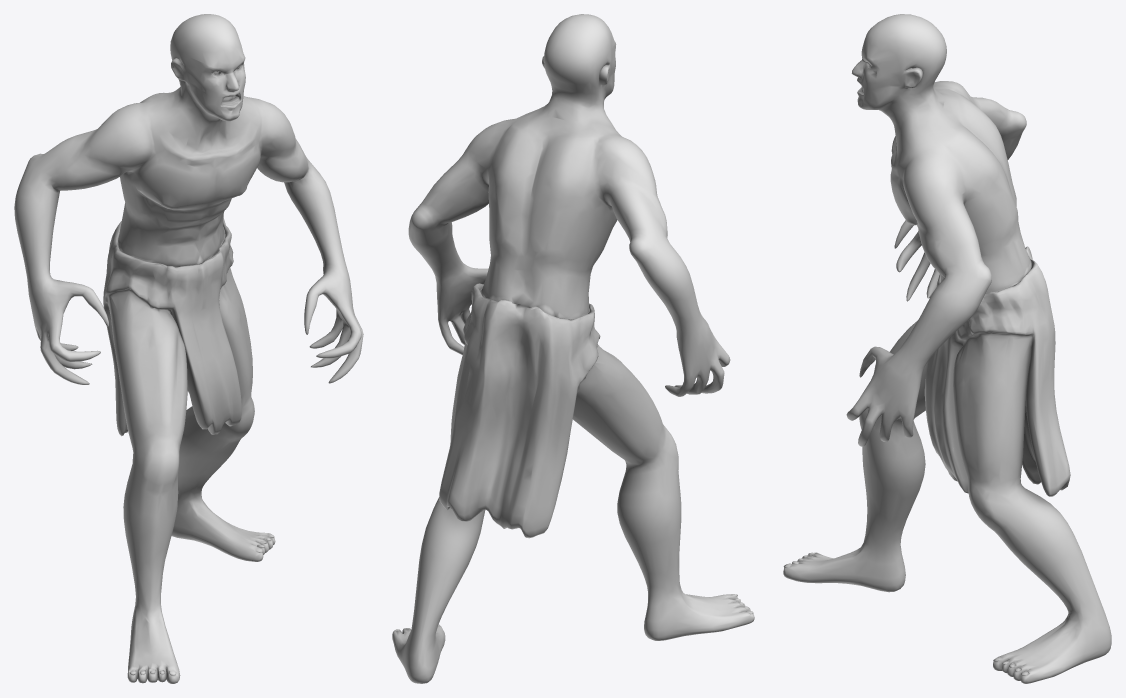
File: MZ4250 - Skulk.glb
3 views of the same model, side by side, from view 1: azimuth 30°, elevation 25°; view 2: azimuth 150°, elevation 25°; view 3: azimuth 270°, elevation 25° (orthographic).
Parts seen in each view (by area): view 1: Body.002; view 2: Body.002; view 3: Body.002.
Boxes of the visible parts, x1,y1,x2,y2 form: Body.002: (14, 14, 363, 683); Body.002: (392, 14, 754, 683); Body.002: (783, 14, 1111, 683).
Bounding box in the file's own units: 0.4963 × 0.9656 × 0.4731.
Materials: 1 (1 with a texture image).
